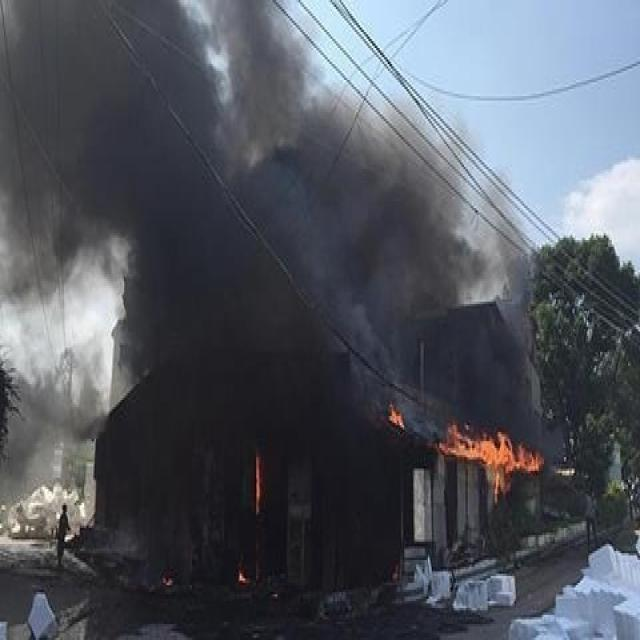Fire: (437, 418, 544, 505), (252, 450, 262, 512), (387, 402, 405, 432)
Smoke: (1, 2, 563, 471)
